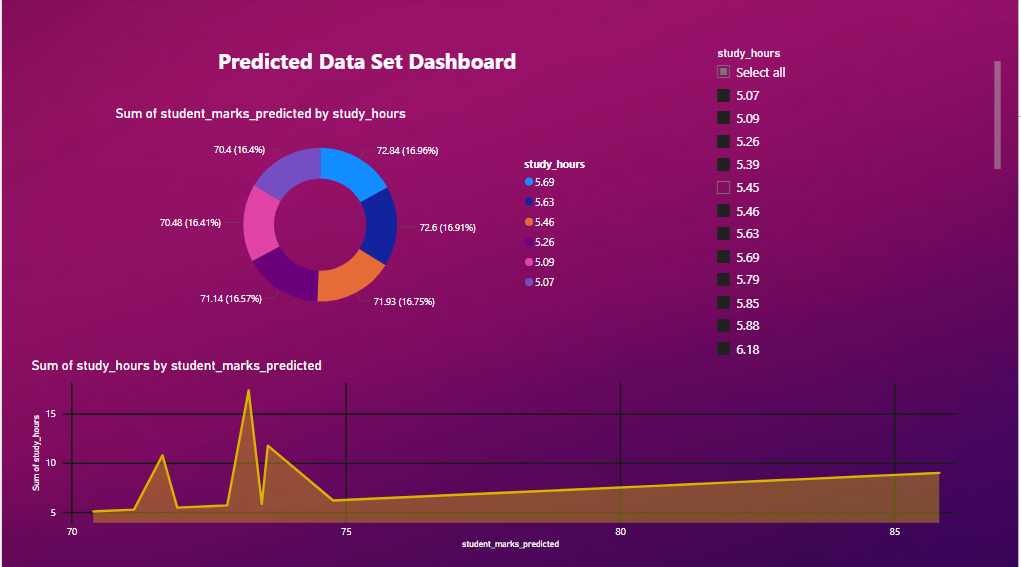

What the dashboard file says about the page in this screenshot:
{"tool":"powerbi","page":{"name":"Page 2","canvas":[1280,720],"ordinal":1},"visuals":[{"type":"donutChart","fields":{"Y":["Sum(student_marks_predicted 1.student_marks_predicted)"],"Category":["student_marks_predicted 1.study_hours"]},"box":[137.4,137.4,618.2,280.2],"z":1},{"type":"stackedAreaChart","fields":{"Category":["student_marks_predicted 1.student_marks_predicted"],"Y":["Sum(student_marks_predicted 1.study_hours)"]},"box":[31.6,454.7,1175.9,245.9],"z":2},{"type":"slicer","fields":{"Values":["student_marks_predicted 1.study_hours"]},"box":[887.4,59.1,375,410.7],"z":3},{"type":"textbox","box":[31.6,59.1,855.8,59.1],"z":4}]}

Visuals, with their boxes in screenshot pixels (x1, y1, x2, y2), scaled from the page's 1280x720 canvas onto the 1021x567 screenshot:
donutChart - Sum(student_marks_predicted 1.student_marks_predicted) x student_marks_predicted 1.study_hours: [left=110, top=108, right=603, bottom=329]
stackedAreaChart - student_marks_predicted 1.student_marks_predicted x Sum(student_marks_predicted 1.study_hours): [left=25, top=358, right=963, bottom=552]
slicer - student_marks_predicted 1.study_hours: [left=708, top=47, right=1007, bottom=370]
textbox: [left=25, top=47, right=708, bottom=93]
